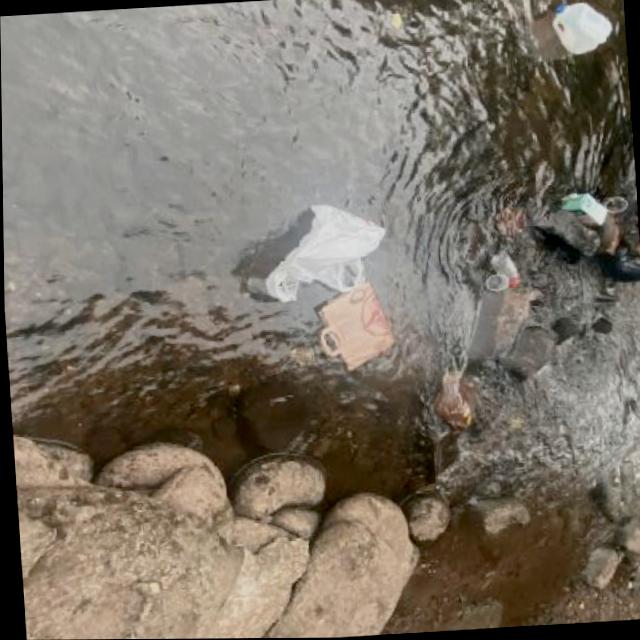Cardboard: (559, 189, 609, 234)
Paper: (308, 278, 400, 380)
Plastic: (251, 197, 395, 309), (548, 0, 616, 62), (481, 250, 523, 292)
